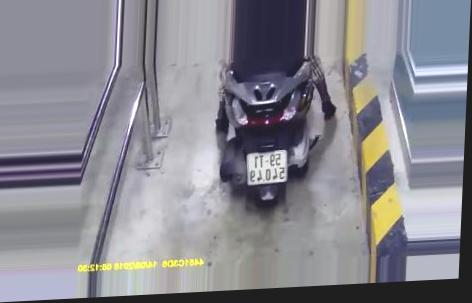License_Plate: (239, 144, 295, 189)
